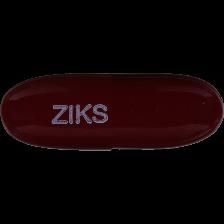63044-631: (0, 0, 224, 224)
